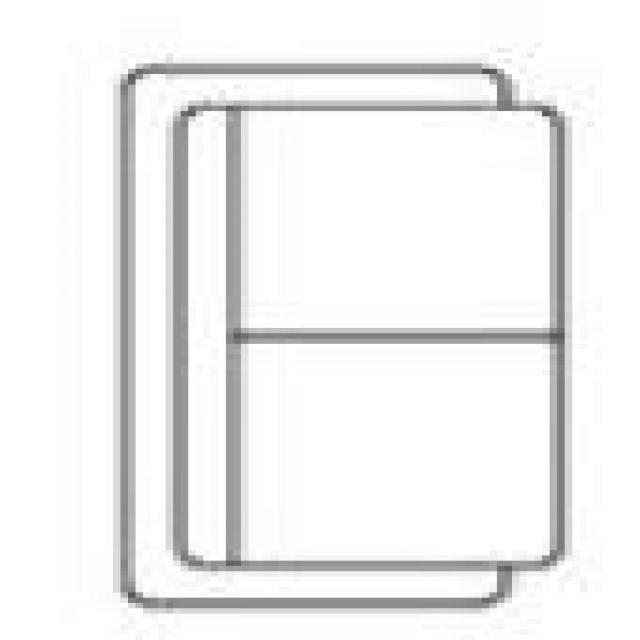sofa: (98, 58, 565, 603)
